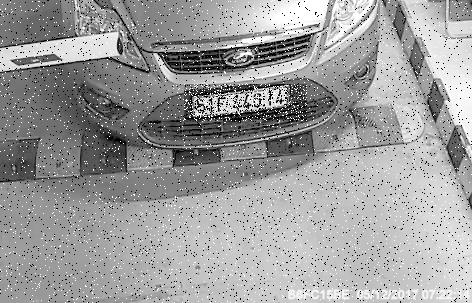License-plate: (185, 86, 308, 123)
